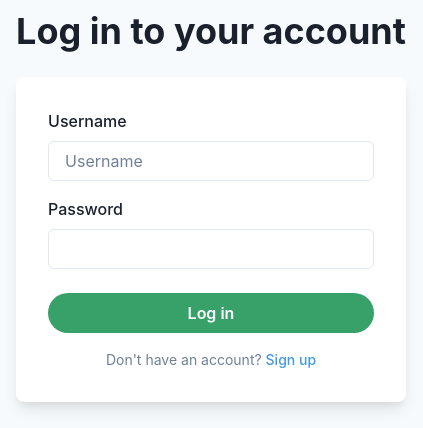
Test case: LoginForm › displays error messages when form submission fails
Type "testuser" into the field labelled "Username" at [211, 161], box [48,141,374,181]
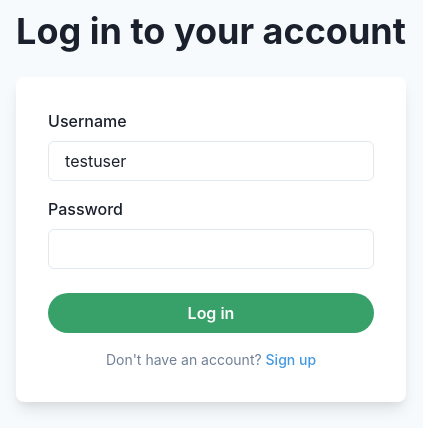
Type "invalidpassword" into the password field labelled "Password" at [211, 249], box [48,229,374,269]
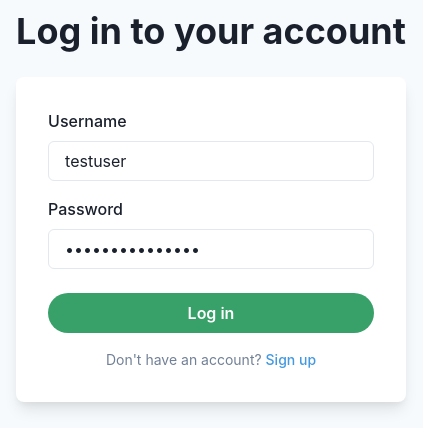
Click the button "Log in" at [211, 313], box [48,293,374,333]
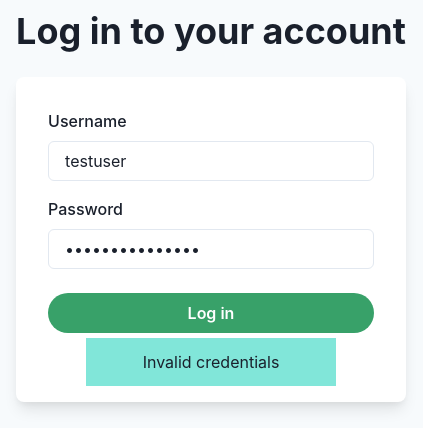
Check: the text "Invalid credentials" is shown, box [143,350,279,374]
